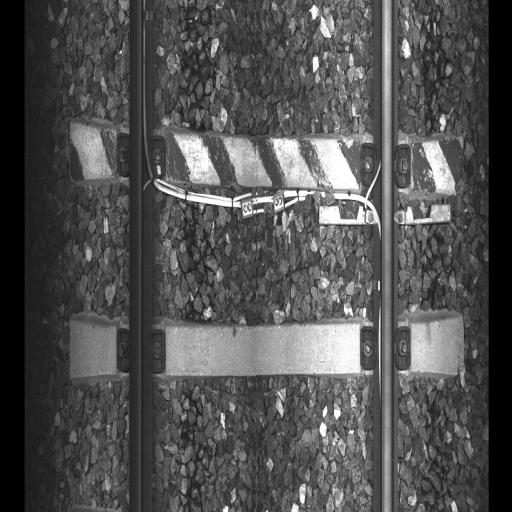clips: (358, 142, 412, 188), (116, 130, 166, 176), (361, 323, 410, 369), (116, 325, 166, 369)
sleepers: (69, 119, 462, 215), (69, 309, 463, 383)
